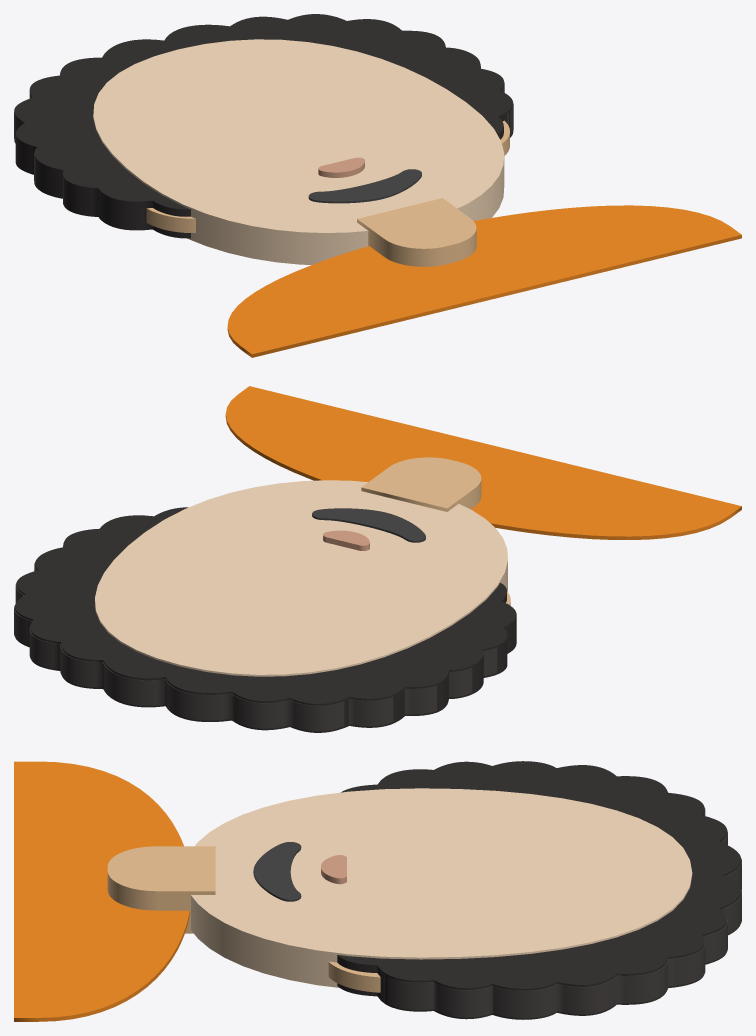
File: emoji_u1f9d1_1f3fb_200d_1f9b1.glb
The picture shows the model from 3 angles, top to bottom: view 1: azimuth 30°, elevation 25°; view 2: azimuth 150°, elevation 25°; view 3: azimuth 270°, elevation 25°; orthographic projection. The views are drawn at different scales.
Visible parts, largest first — view 1: emoji_u1f9d1_1f3fb_200d_1f9b1; view 2: emoji_u1f9d1_1f3fb_200d_1f9b1; view 3: emoji_u1f9d1_1f3fb_200d_1f9b1.
Boxes of the visible parts, x1,y1,x2,y2 form: emoji_u1f9d1_1f3fb_200d_1f9b1: (14,14,741,357); emoji_u1f9d1_1f3fb_200d_1f9b1: (14,386,741,732); emoji_u1f9d1_1f3fb_200d_1f9b1: (14,761,741,1021).
Bounding box in the file's own units: 0.0284 × 0.0024 × 0.0341.
